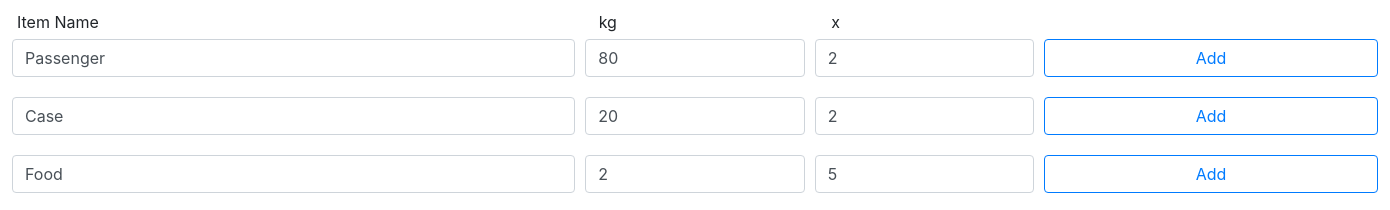
Scenario: Load Adder › Marks the load as added in the list when its added
The width and height of the screenshot is (1390, 210).
Click the 2nd button with test id "btn-load-off" at (1211,116), box [1044, 97, 1378, 135]
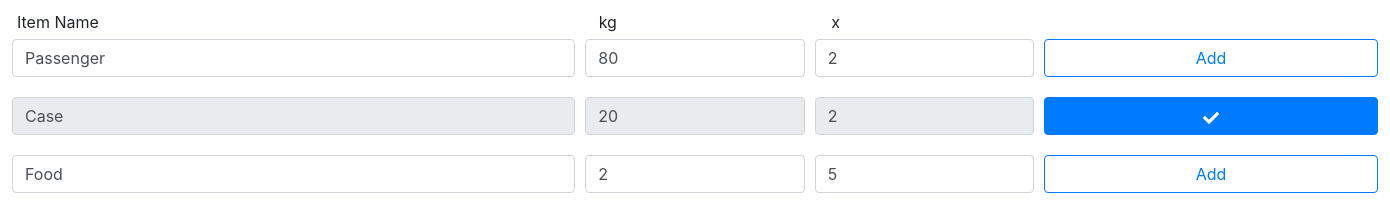
expect the number of fields with placeholder "Item Name" is 3: met, box [12, 39, 575, 77]; [12, 97, 575, 135]; [12, 155, 575, 193]
expect the number of buttons with test id "btn-load-on" is 1: met, box [1044, 97, 1378, 135]
expect the number of buttons with test id "btn-load-off" is 2: met, box [1044, 39, 1378, 77]; [1044, 155, 1378, 193]
